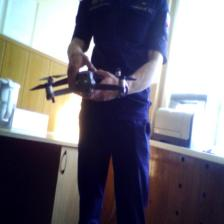drone: (32, 63, 142, 104)
